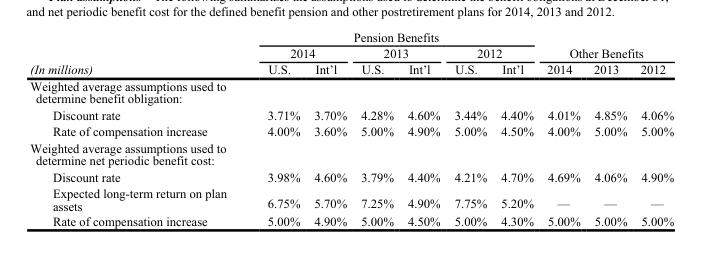table: (29, 29, 673, 227)
table column: (29, 29, 246, 227), (246, 29, 306, 227), (306, 29, 353, 227), (399, 29, 446, 227), (446, 29, 493, 227), (539, 29, 586, 227), (586, 29, 633, 227), (353, 29, 399, 227), (493, 29, 539, 227), (633, 29, 673, 227)
table column header: (29, 29, 673, 77)
table projected row header: (29, 77, 673, 106), (29, 139, 673, 168)
table row: (29, 77, 673, 106), (29, 139, 673, 168), (29, 184, 673, 213), (29, 60, 673, 77), (29, 122, 673, 139), (29, 44, 673, 60), (29, 106, 673, 122), (29, 168, 673, 184), (29, 29, 673, 44), (29, 213, 673, 227)
table spanning cell: (29, 29, 246, 77), (246, 29, 539, 44), (539, 29, 673, 60), (246, 44, 353, 60), (353, 44, 446, 60), (446, 44, 539, 60)
